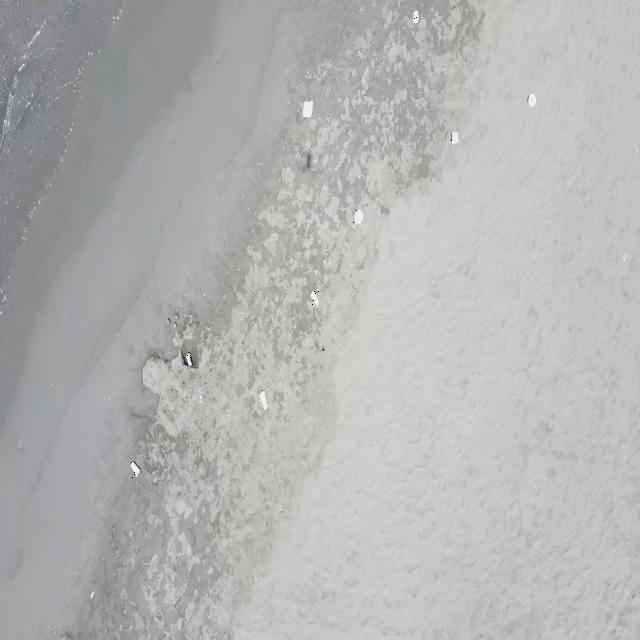take-away-containers: (302, 99, 314, 119), (352, 209, 362, 225), (527, 93, 536, 108), (450, 131, 459, 145), (412, 10, 419, 24)
takeaway-cup: (130, 461, 141, 478), (259, 390, 268, 410), (310, 289, 320, 306), (198, 386, 204, 404), (186, 352, 192, 368)
